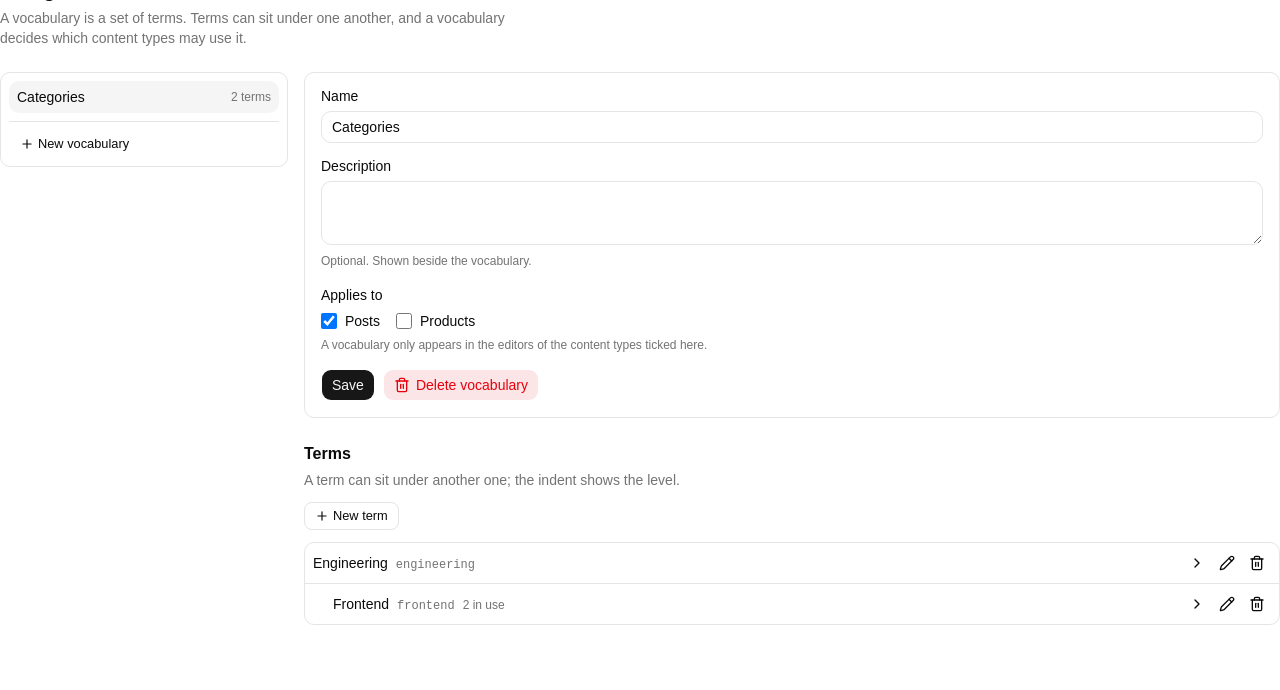
Test: the taxonomy screen › opens another term with that term’s own values
This screenshot has width=1280, height=690.
Expected: the list with test id "term-tree" is shown, [304,542,1279,625]
Click the button named "Edit Engineering": (1227, 563) [1213,549,1241,577]
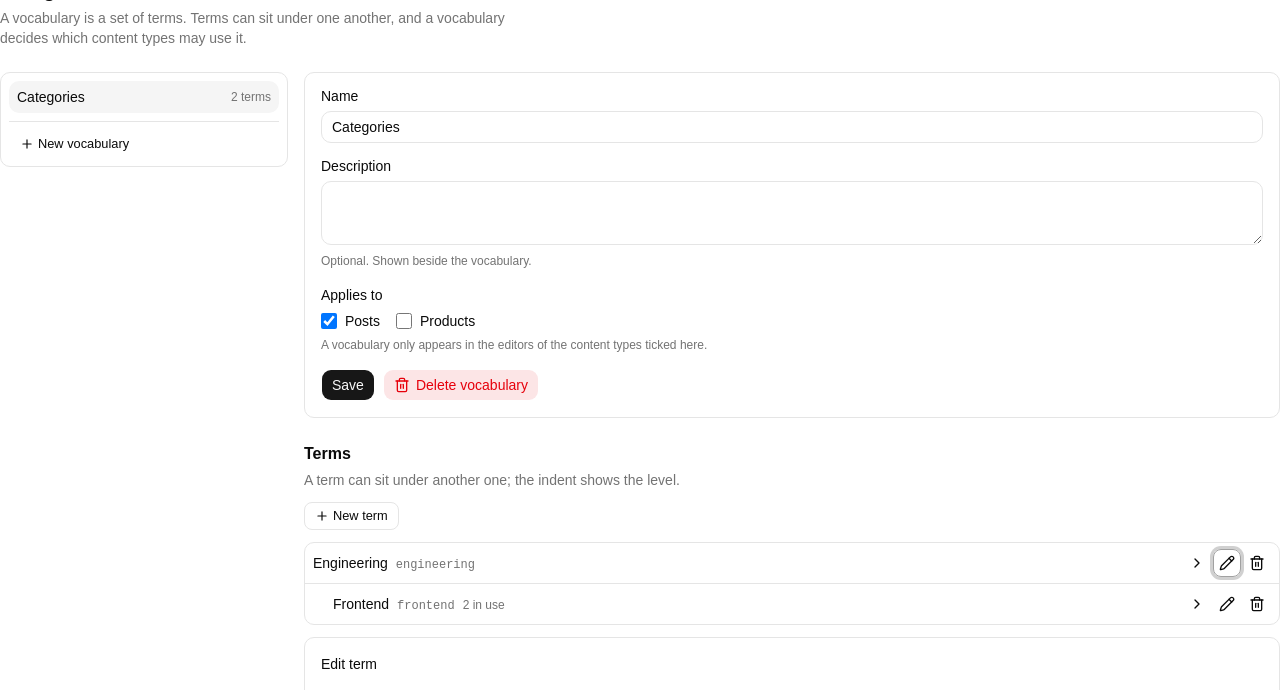
Click the button named "Edit Frontend": (1227, 604) [1213,590,1241,618]
(page scrolled)
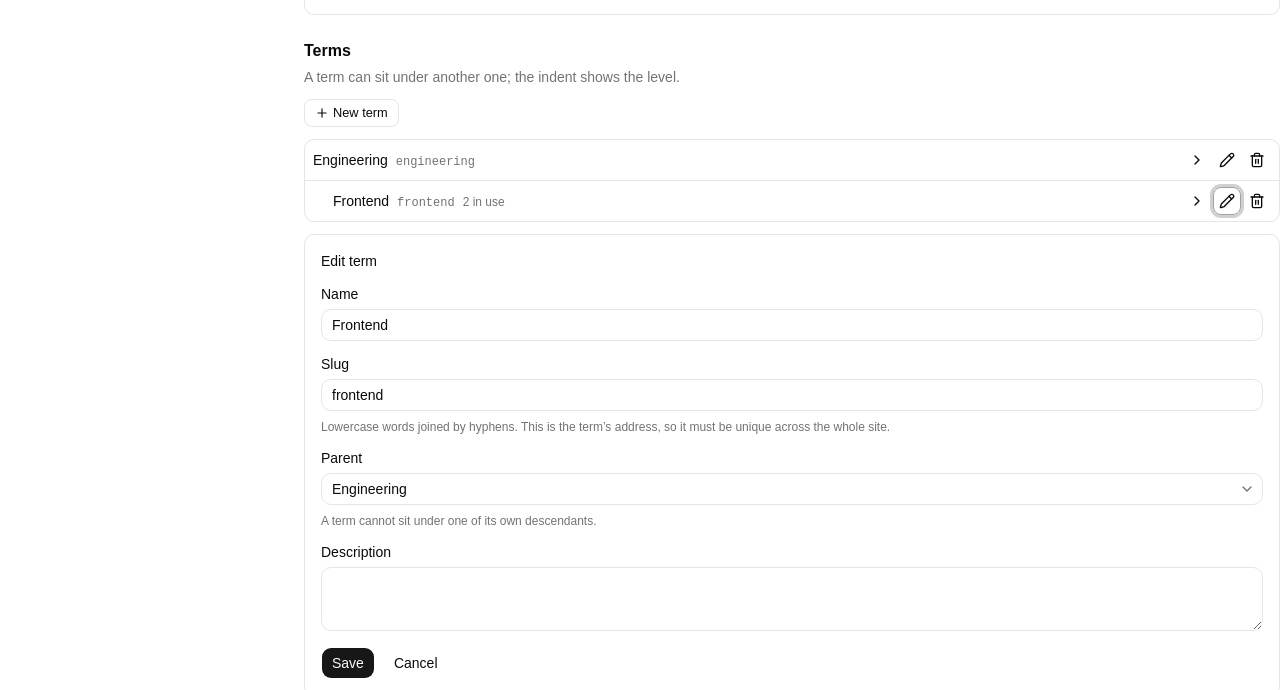
Result: the field labelled "Slug" holds "frontend" at [321,379,1263,411]
